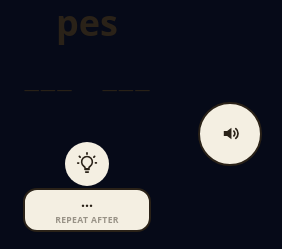
TypingStudyCard › keeps the mobile keyboard focused when a hint is tapped
Press the mouse on the button named "hint" at (87, 164), box [65,142,109,186]
Click the button named "hint" at (87, 164), box [65,142,109,186]
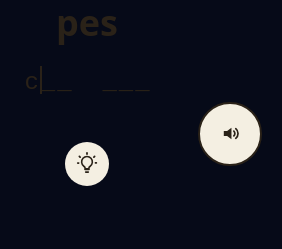
Expected: the field holds "c", [16,53,158,130]
